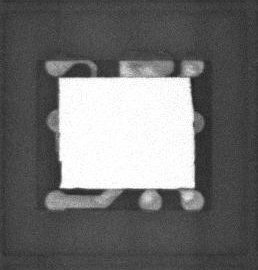DIE_BROKEN: (187, 76, 195, 105), (56, 160, 62, 188)
